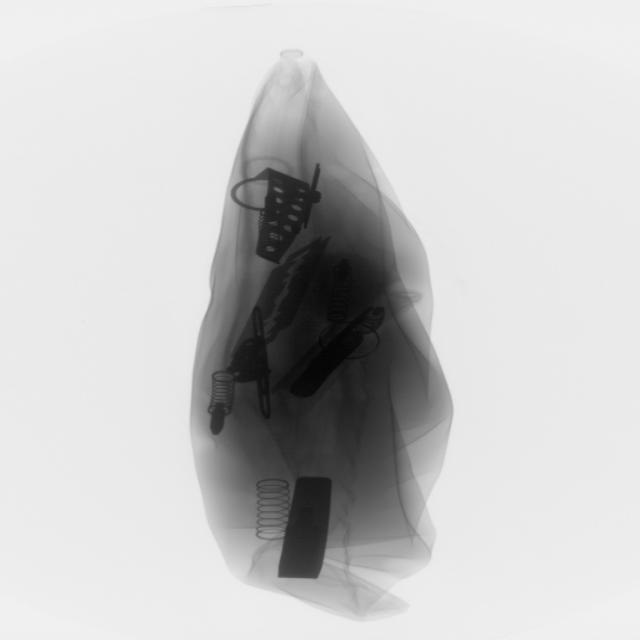BLADE: (246, 229, 331, 358)
